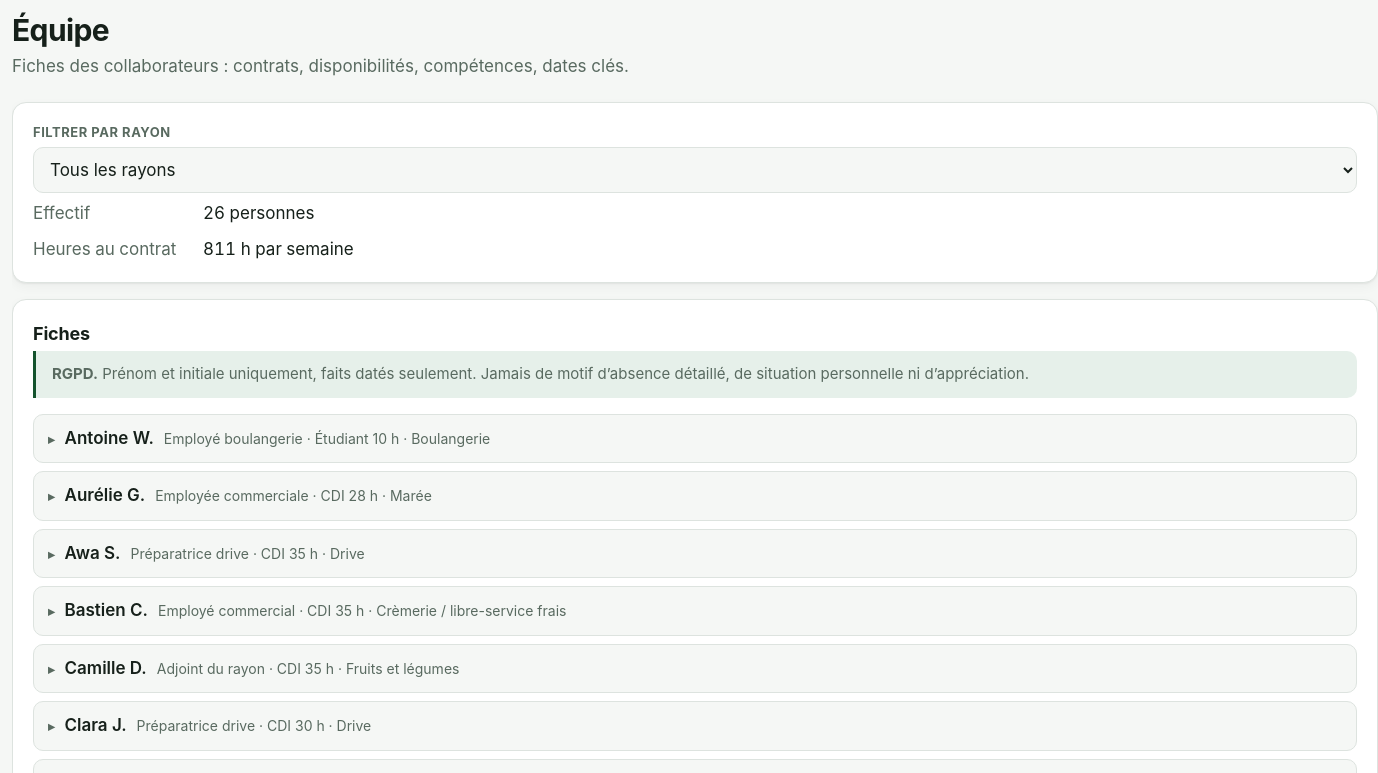
Scenario: ecran Equipe › compare la capacite du rayon a son budget
Select "Fruits et légumes" in the dropdown labelled "Filtrer par rayon". click: (695, 170)
box: [33,147,1357,193]
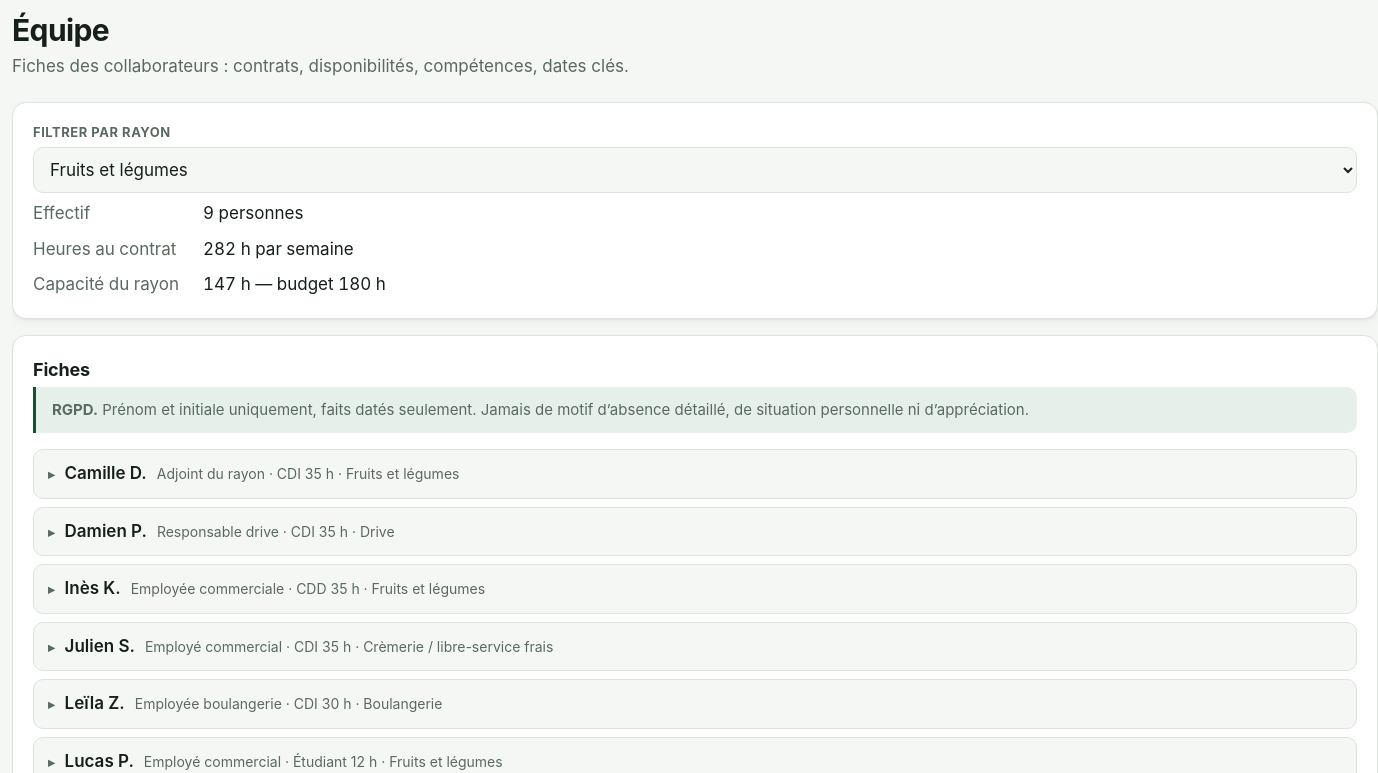
Expected: the text "Capacité du rayon" is shown, [33,272,183,298]
Expected: the text "147 h — budget 180 h" is shown, [203,274,386,294]
